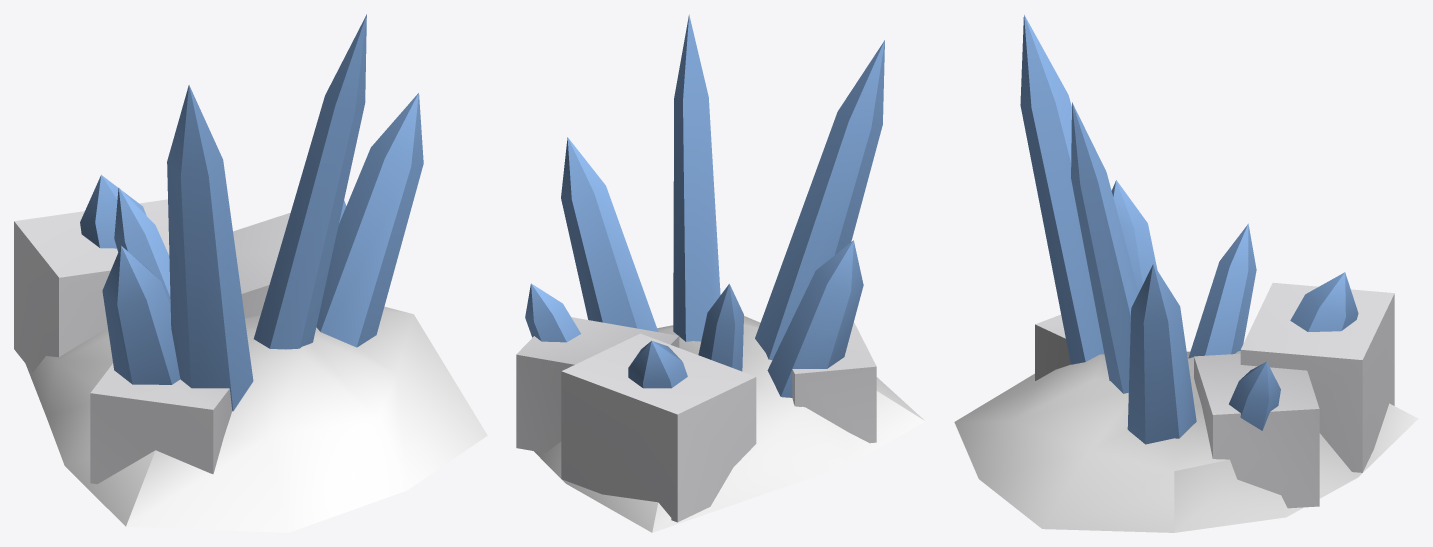
The model's file is kit_crystal.glb.
3 renders of one model, left to right at view 1: azimuth 30°, elevation 25°; view 2: azimuth 150°, elevation 25°; view 3: azimuth 270°, elevation 25°, orthographic. The views are drawn at different scales.
Parts seen in each view (by area): view 1: kit_crystal; view 2: kit_crystal; view 3: kit_crystal.
Part boxes in pixels (x1=…): kit_crystal: x1=14, y1=14, x2=487, y2=532; kit_crystal: x1=516, y1=14, x2=925, y2=532; kit_crystal: x1=954, y1=14, x2=1418, y2=532.
Bounding box in the file's own units: 1.21 × 1.34 × 1.48.
